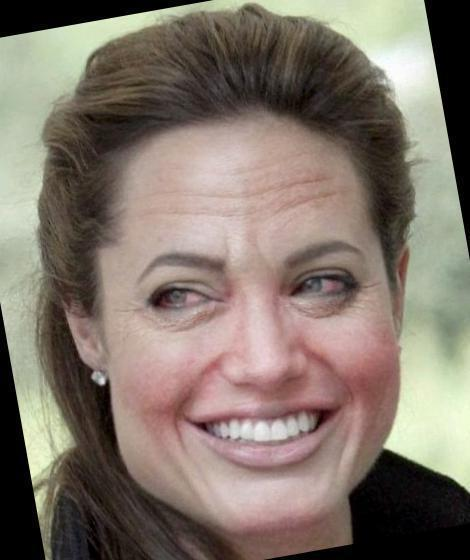Drunk: (118, 135, 392, 527)
